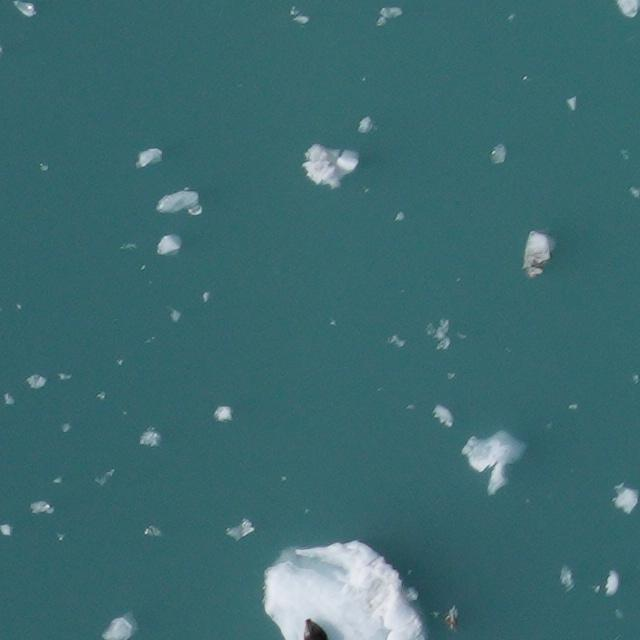seal: (303, 619, 328, 639)
